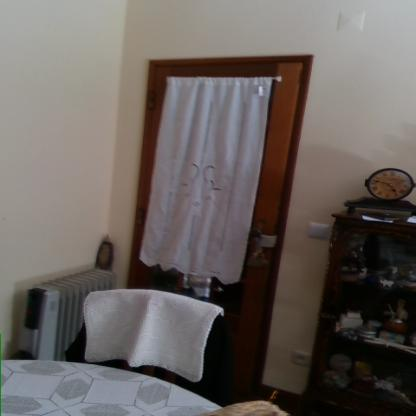closed: (128, 41, 319, 386)
